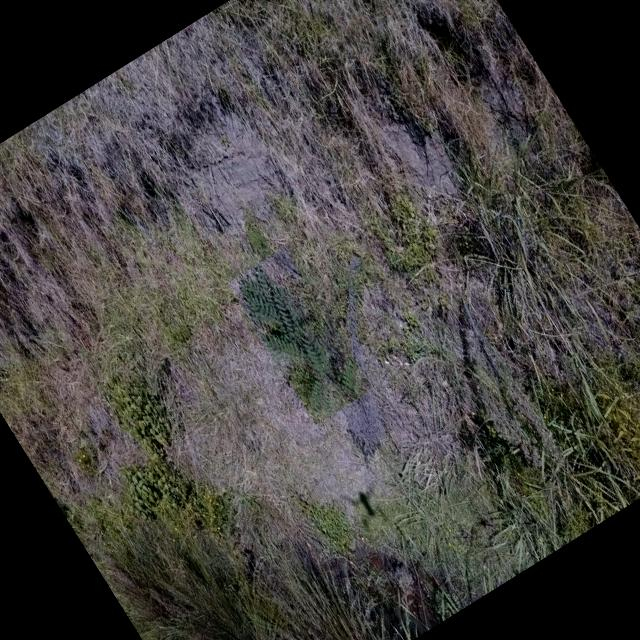Mysore-Thorn-Weed: (226, 247, 372, 424)
